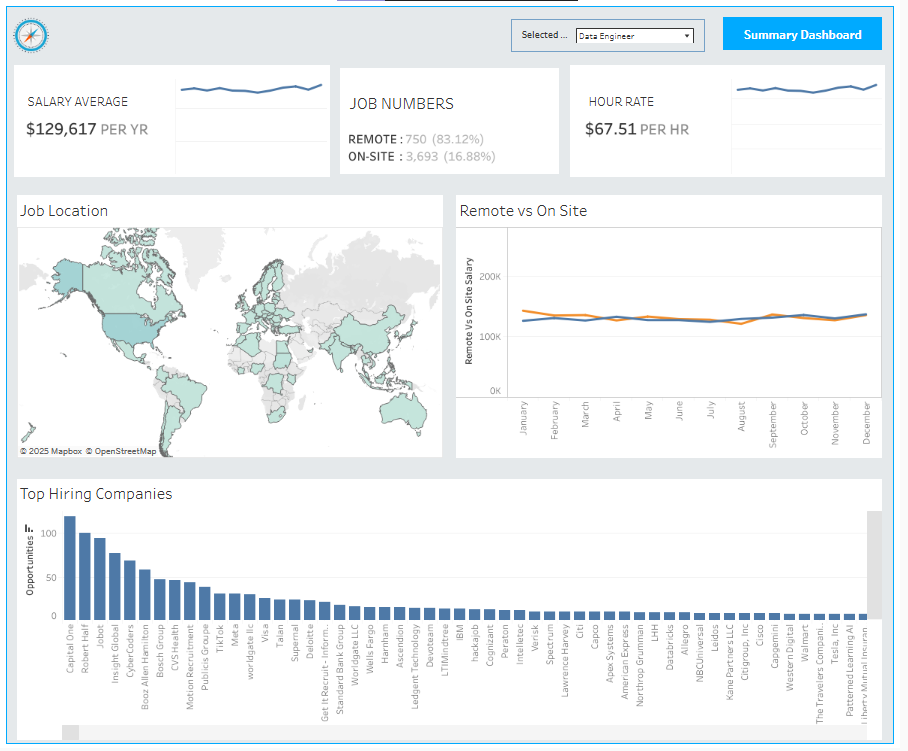

The page's visual inventory and layout, read from the dashboard file:
{"tool":"tableau","page":{"name":"Summary Dashboard","canvas":[1200,1000],"ordinal":1},"visuals":[{"type":"blank","box":[9,9,1182,10]},{"type":"image","param":"C:/Users/user/Downloads/Sales Dashboard/projects/sales-dashboard-project/images/","box":[9,19,75,57]},{"type":"blank","box":[84,19,877,57]},{"type":"dashboard-object","box":[961,19,220,52]},{"type":"blank","box":[9,76,1182,10]},{"type":"blank","box":[9,86,10,137]},{"type":"worksheet","title":"Salary KPI","mark":"Automatic","box":[19,86,291,137]},{"type":"worksheet","title":"Salary Average","mark":"Automatic","rows":["salary_year_avg"],"cols":["job_posted_date"],"box":[310,86,290,137]},{"type":"blank","box":[600,86,10,137]},{"type":"worksheet","title":"Hour Rate KPI ","mark":"Text","box":[610,86,286,137]},{"type":"worksheet","title":"Hour Rate","mark":"Automatic","rows":["salary_hour_avg"],"cols":["job_posted_date"],"box":[896,86,285,137]},{"type":"blank","box":[1181,86,10,137]},{"type":"blank","box":[9,223,1182,20]},{"type":"blank","box":[9,243,10,364]},{"type":"worksheet","title":"Map Summary","mark":"Multipolygon","box":[19,243,711,364]},{"type":"blank","box":[730,243,10,364]},{"type":"worksheet","title":"Job Listings","mark":"Automatic","rows":["job_title_short"],"cols":["job_title_short"],"box":[740,243,440.9,364]},{"type":"blank","box":[1180.9,243,10,364]},{"type":"blank","box":[9,607,1182,20]},{"type":"blank","box":[9,627,10,364]},{"type":"worksheet","title":"Job Salary","mark":"Bar","rows":["job_title_short"],"cols":["salary_year_avg"],"box":[19,627,594,364]},{"type":"blank","box":[613,627,10,364]},{"type":"worksheet","title":"Company Listings","mark":"Circle","rows":["company_name"],"cols":["job_title_short"],"box":[623,627,558,364]},{"type":"blank","box":[1181,627,10,364]}]}

Visuals, with their boxes in screenshot pixels (x1, y1, x2, y2), scaled from the page's 1200x1000 canvas onto the 908x751 screenshot:
blank: [7, 7, 901, 14]
image: [7, 14, 64, 57]
blank: [64, 14, 727, 57]
dashboard-object: [727, 14, 894, 53]
blank: [7, 57, 901, 65]
blank: [7, 65, 14, 167]
"Salary KPI" worksheet: [14, 65, 235, 167]
"Salary Average" worksheet: [235, 65, 454, 167]
blank: [454, 65, 462, 167]
"Hour Rate KPI " worksheet (Text marks): [462, 65, 678, 167]
"Hour Rate" worksheet: [678, 65, 894, 167]
blank: [894, 65, 901, 167]
blank: [7, 167, 901, 182]
blank: [7, 182, 14, 456]
"Map Summary" worksheet (Multipolygon marks): [14, 182, 552, 456]
blank: [552, 182, 560, 456]
"Job Listings" worksheet: [560, 182, 894, 456]
blank: [894, 182, 901, 456]
blank: [7, 456, 901, 471]
blank: [7, 471, 14, 744]
"Job Salary" worksheet (Bar marks): [14, 471, 464, 744]
blank: [464, 471, 471, 744]
"Company Listings" worksheet (Circle marks): [471, 471, 894, 744]
blank: [894, 471, 901, 744]
